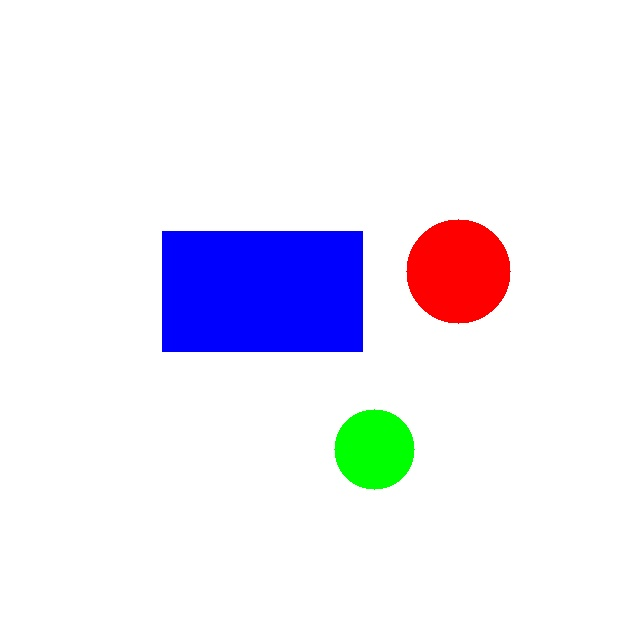cartao: (162, 231, 362, 351)
rosca_externa: (334, 409, 414, 489)
rosca_interna: (406, 219, 510, 323)
